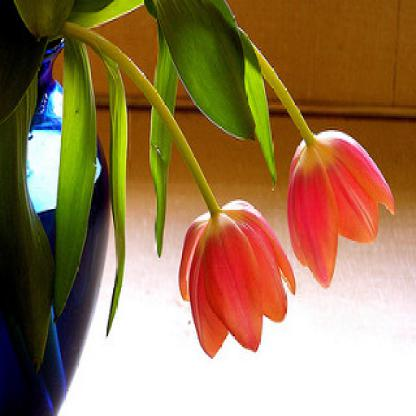TULIP: (177, 26, 406, 357)
